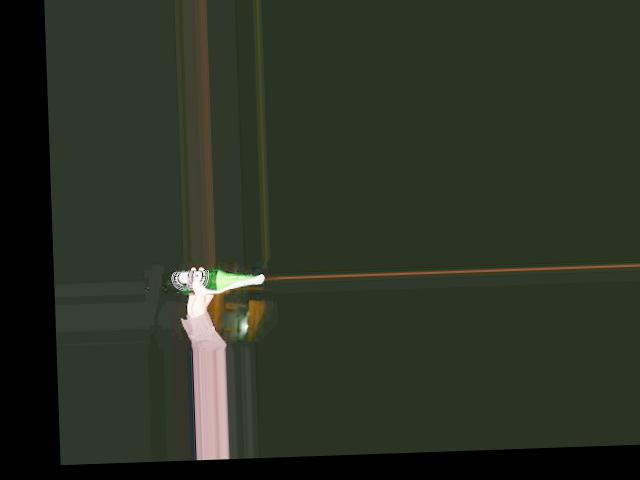beer: (168, 266, 260, 295)
